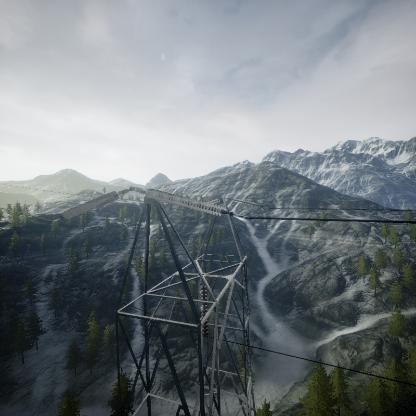insulator: (215, 163, 308, 200), (55, 190, 123, 221), (199, 285, 210, 339)
